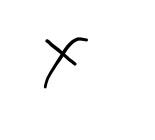mult: (42, 35, 88, 90)
